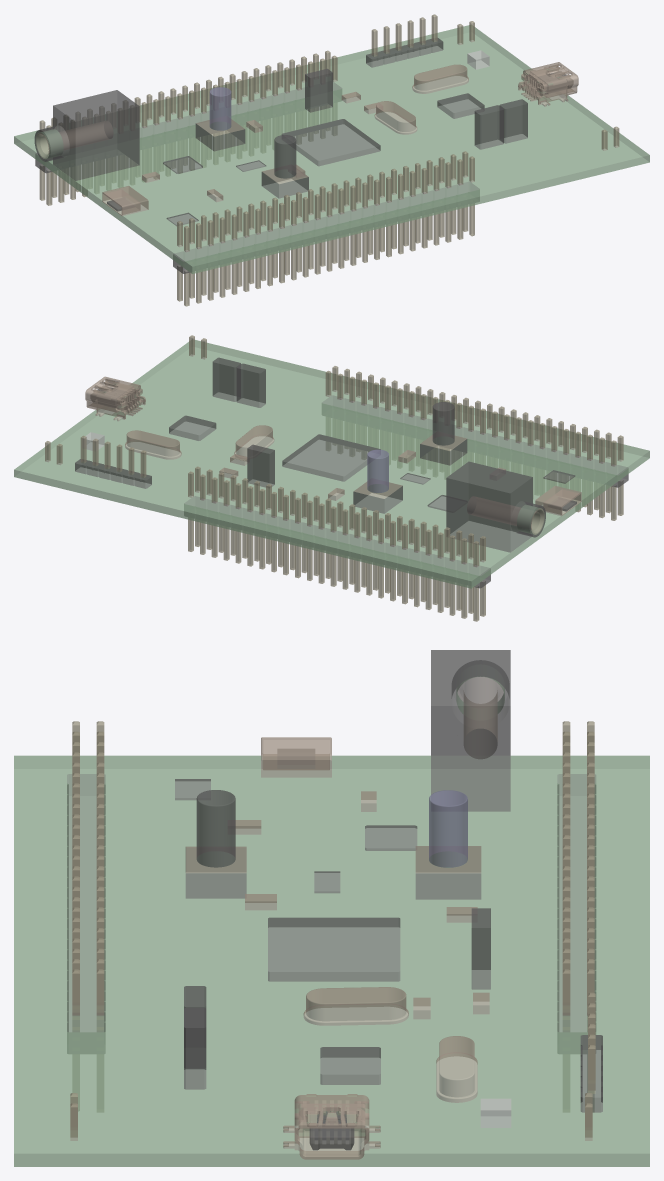
File: stm32f411.obj
3 views of the same model, one above another, from view 1: azimuth 30°, elevation 25°; view 2: azimuth 150°, elevation 25°; view 3: azimuth 270°, elevation 25° (orthographic). The views are drawn at different scales.
Parts seen in each view (by area): view 1: stm32f4\1_felület; view 2: stm32f4\1_felület; view 3: stm32f4\1_felület.
Part boxes in pixels (x1=…): stm32f4\1_felület: x1=14, y1=14, x2=649, y2=306; stm32f4\1_felület: x1=14, y1=335, x2=649, y2=621; stm32f4\1_felület: x1=14, y1=650, x2=649, y2=1166.
Size of the model in its own units: 1.67 by 0.3738 by 1.06.
